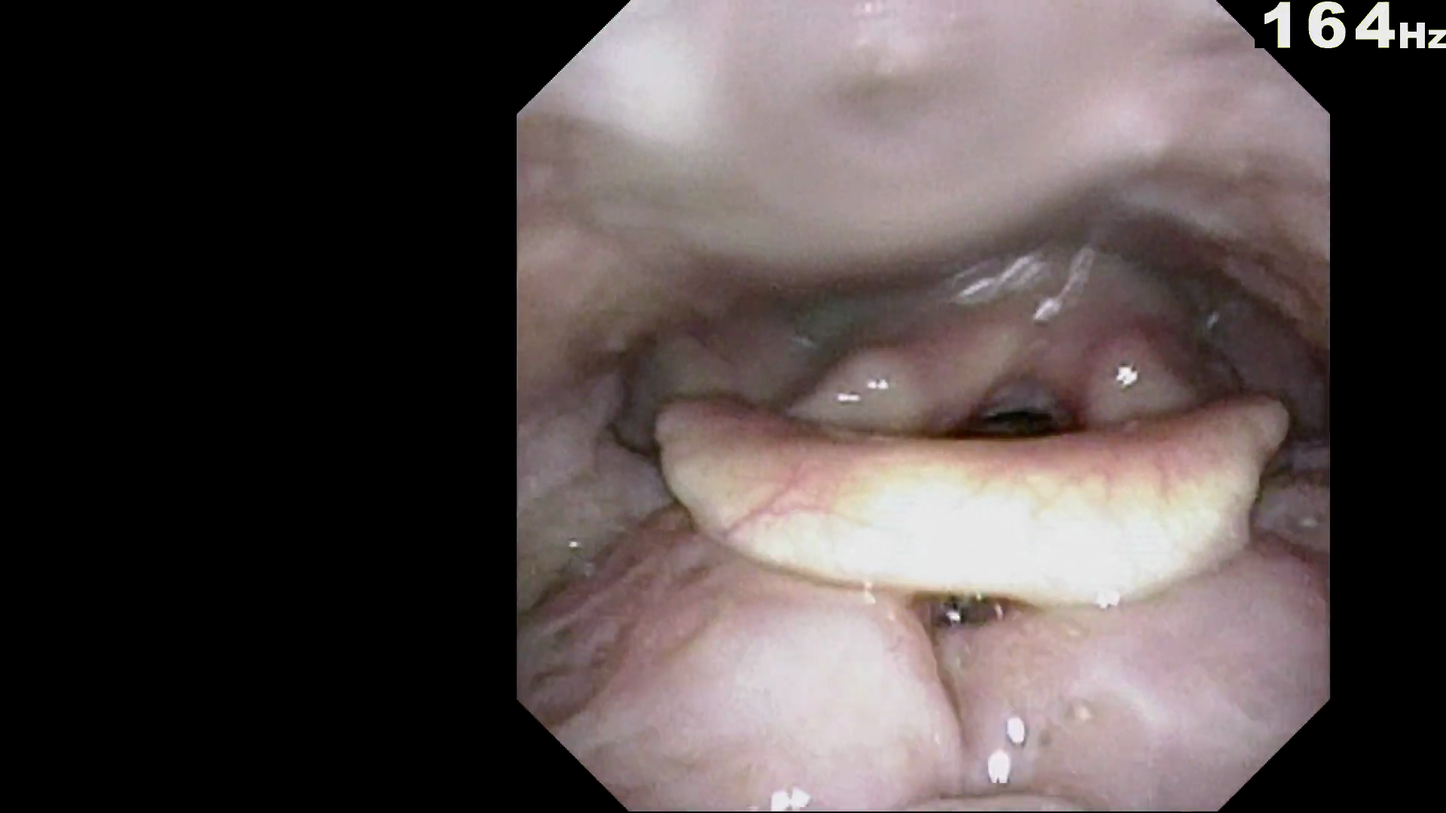epiglottis: (654, 442, 1304, 586)
trachea: (935, 386, 1089, 467)
